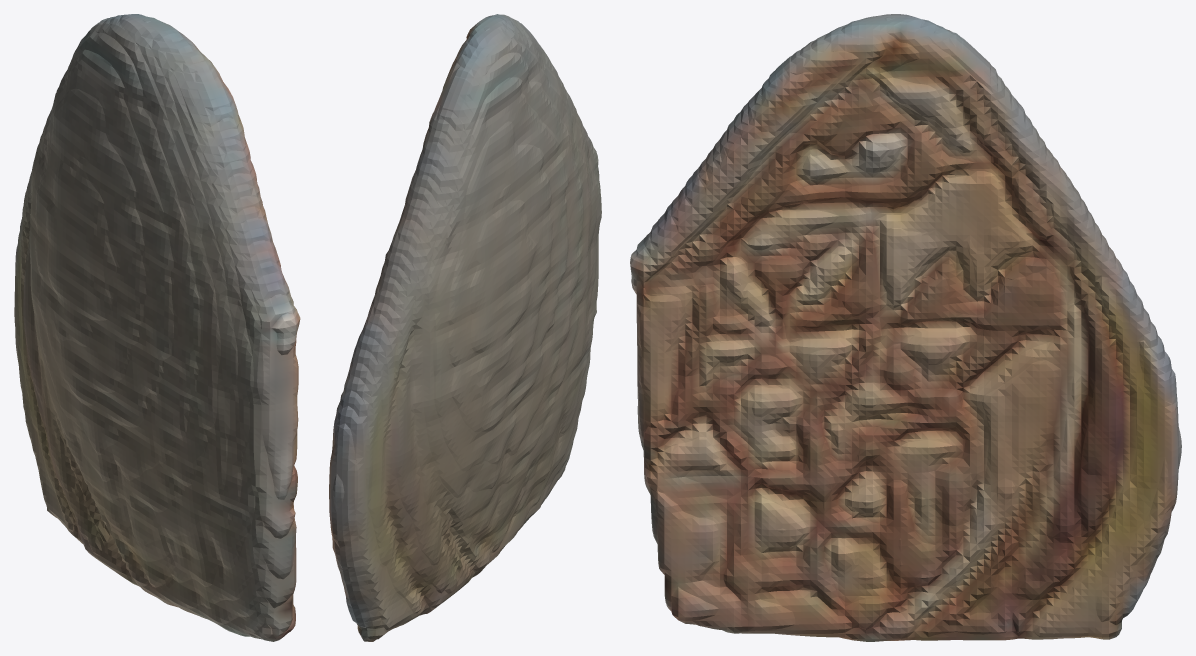
The picture shows the model from 3 angles, left to right: view 1: azimuth 30°, elevation 25°; view 2: azimuth 150°, elevation 25°; view 3: azimuth 270°, elevation 25°; orthographic projection. The views are drawn at different scales.
Parts seen in each view (by area): view 1: world; view 2: world; view 3: world.
Boxes of the visible parts, left/top/right/bottom form: world: left=14, top=14, right=300, bottom=641; world: left=329, top=14, right=601, bottom=641; world: left=630, top=14, right=1181, bottom=641.
Bounding box in the file's own units: 0.1139 × 0.6647 × 0.5421.
